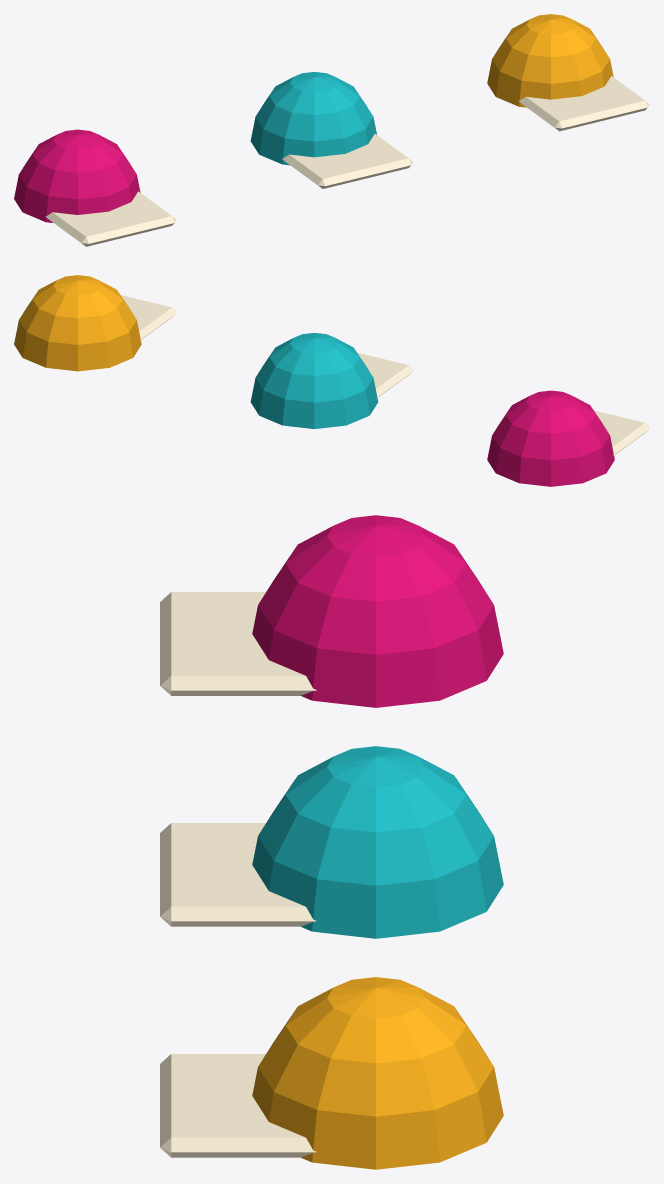
Rendered from stall_caps.glb.
3 views of the same model, one above another, from view 1: azimuth 30°, elevation 25°; view 2: azimuth 150°, elevation 25°; view 3: azimuth 270°, elevation 25° (orthographic). The views are drawn at different scales.
Parts seen in each view (by area): view 1: fan_cap_3, fan_cap_1, fan_cap_2, cap_brim, cap_brim.001, cap_brim.002; view 2: fan_cap_3, fan_cap_1, fan_cap_2, cap_brim, cap_brim.001, cap_brim.002; view 3: fan_cap_3, fan_cap_1, fan_cap_2, cap_brim.002, cap_brim.001, cap_brim.
Boxes of the visible parts, box(x1,y1,x2,y2) form: fan_cap_3: box(487, 14, 613, 107); fan_cap_1: box(14, 129, 140, 222); fan_cap_2: box(250, 72, 376, 165); cap_brim: box(45, 191, 176, 246); cap_brim.001: box(282, 134, 412, 188); cap_brim.002: box(518, 76, 649, 131); fan_cap_3: box(14, 275, 141, 371); fan_cap_1: box(487, 390, 614, 486); fan_cap_2: box(250, 333, 378, 428); cap_brim: box(594, 410, 649, 455); cap_brim.001: box(357, 352, 413, 397); cap_brim.002: box(121, 295, 176, 339); fan_cap_3: box(252, 977, 503, 1169); fan_cap_1: box(252, 515, 503, 707); fan_cap_2: box(252, 746, 503, 938); cap_brim.002: box(160, 1054, 316, 1157); cap_brim.001: box(160, 823, 316, 926); cap_brim: box(160, 592, 316, 695).
Size of the model in its own units: 1.53 by 0.16 by 0.39.
